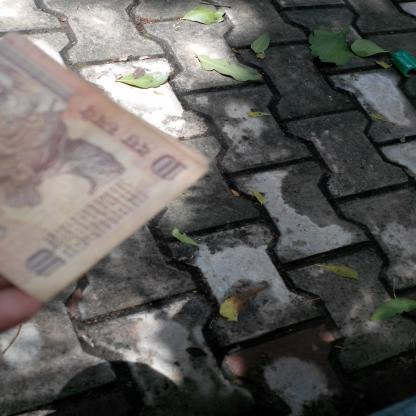Old10Back: (0, 29, 213, 304)
